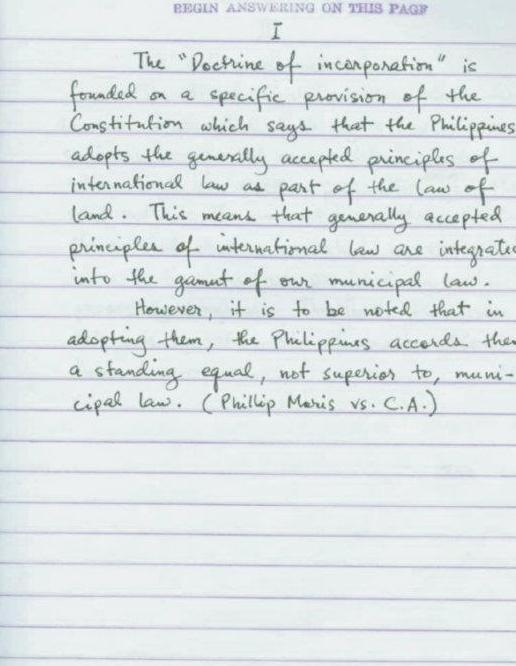text: (66, 356, 516, 396), (66, 232, 516, 271), (68, 144, 502, 180), (67, 265, 489, 302), (63, 327, 516, 360), (68, 203, 506, 237), (69, 174, 497, 207), (66, 81, 484, 114), (66, 111, 516, 140), (69, 386, 441, 420), (131, 49, 479, 85), (132, 298, 507, 322), (172, 0, 430, 17), (269, 18, 285, 42)
